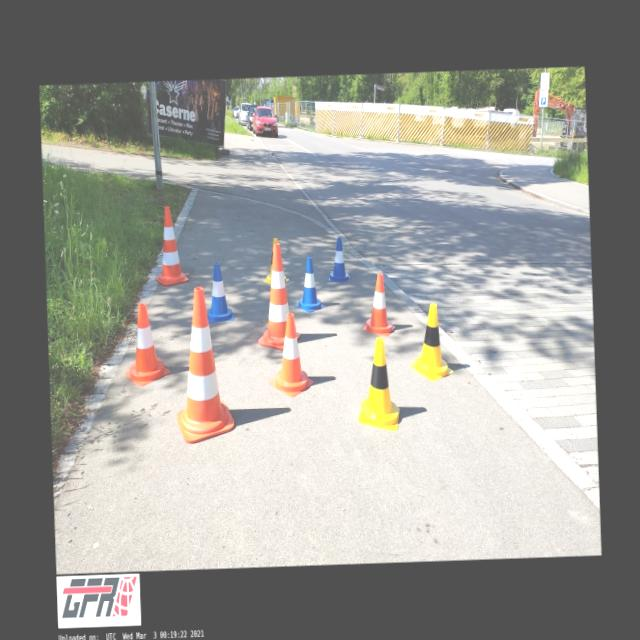blue_cone: (292, 255, 325, 312), (205, 261, 234, 322), (326, 236, 350, 283)
large_orange_cone: (172, 286, 234, 442), (254, 242, 300, 351), (153, 205, 189, 285)
orange_cone: (122, 303, 170, 387), (266, 312, 313, 397), (360, 272, 396, 336)
yellow_cone: (354, 336, 400, 432), (408, 302, 453, 380), (261, 238, 289, 284)
